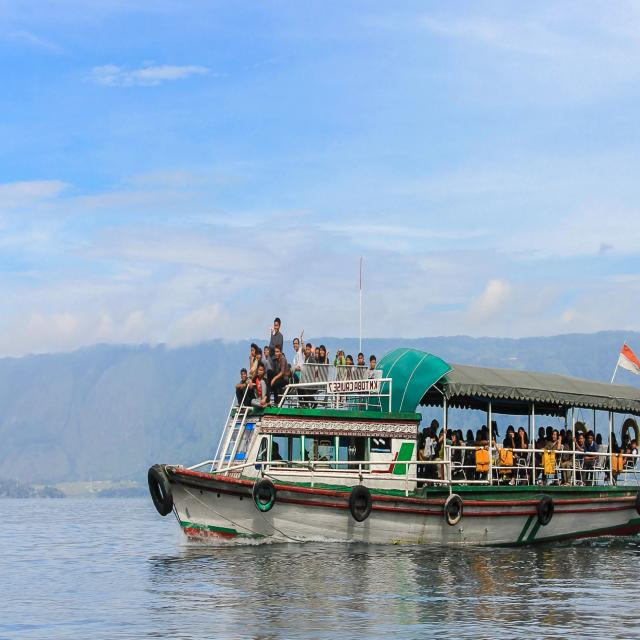passenger ship: (153, 303, 640, 598)
